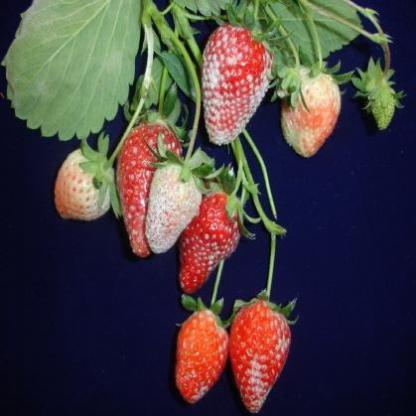Strawberry_Powdery_Mildew_Fruit: (116, 115, 184, 258), (200, 20, 274, 146), (178, 178, 244, 294), (228, 297, 291, 414), (145, 158, 204, 254), (175, 308, 229, 404)
